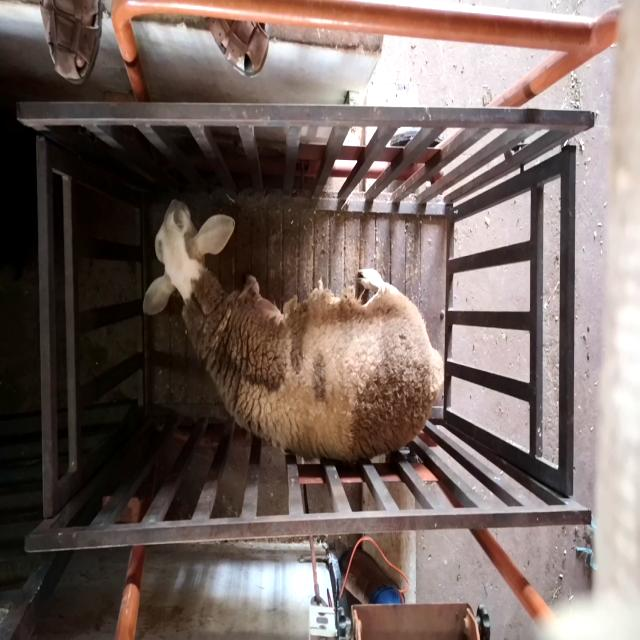sheep: (142, 199, 445, 461)
